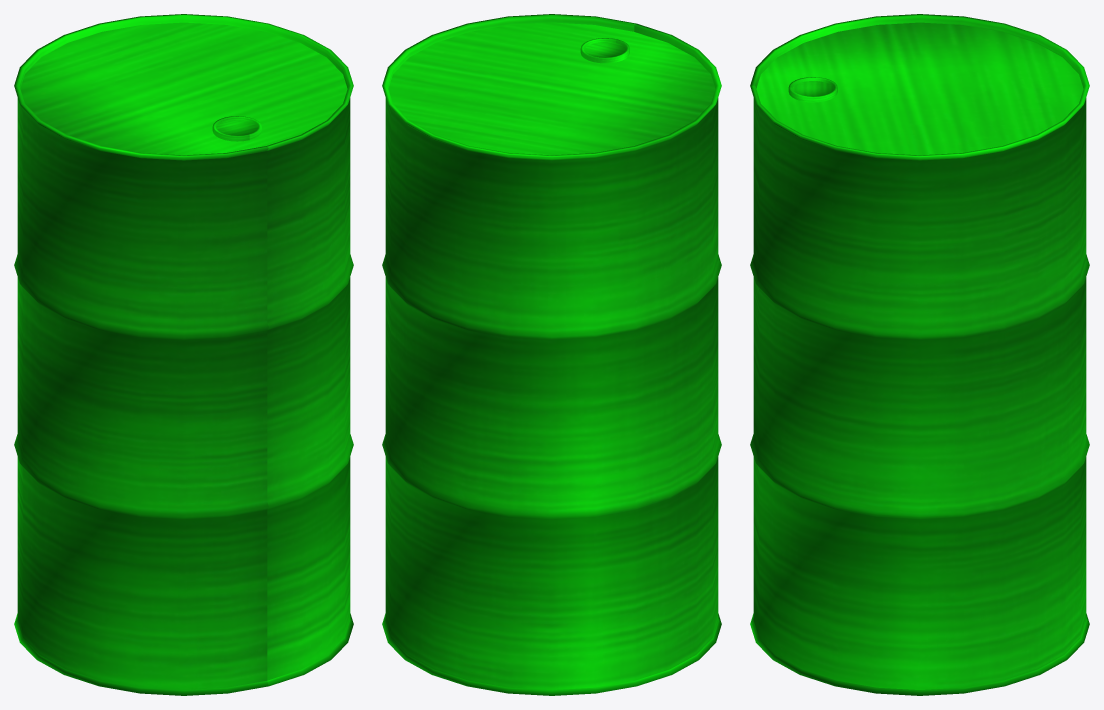
The model's file is barrelNew.obj.
3 renders of one model, left to right at view 1: azimuth 30°, elevation 25°; view 2: azimuth 150°, elevation 25°; view 3: azimuth 270°, elevation 25°, orthographic.
Parts seen in each view (by area): view 1: Circle_Circle.001; view 2: Circle_Circle.001; view 3: Circle_Circle.001.
Boxes of the visible parts, <box> form: Circle_Circle.001: <box>14,14,353,695</box>; Circle_Circle.001: <box>382,14,721,695</box>; Circle_Circle.001: <box>750,14,1089,695</box>.
Bounding box in the file's own units: 0.8882 × 1.55 × 0.8882.
Materials: 1 (1 with a texture image).
